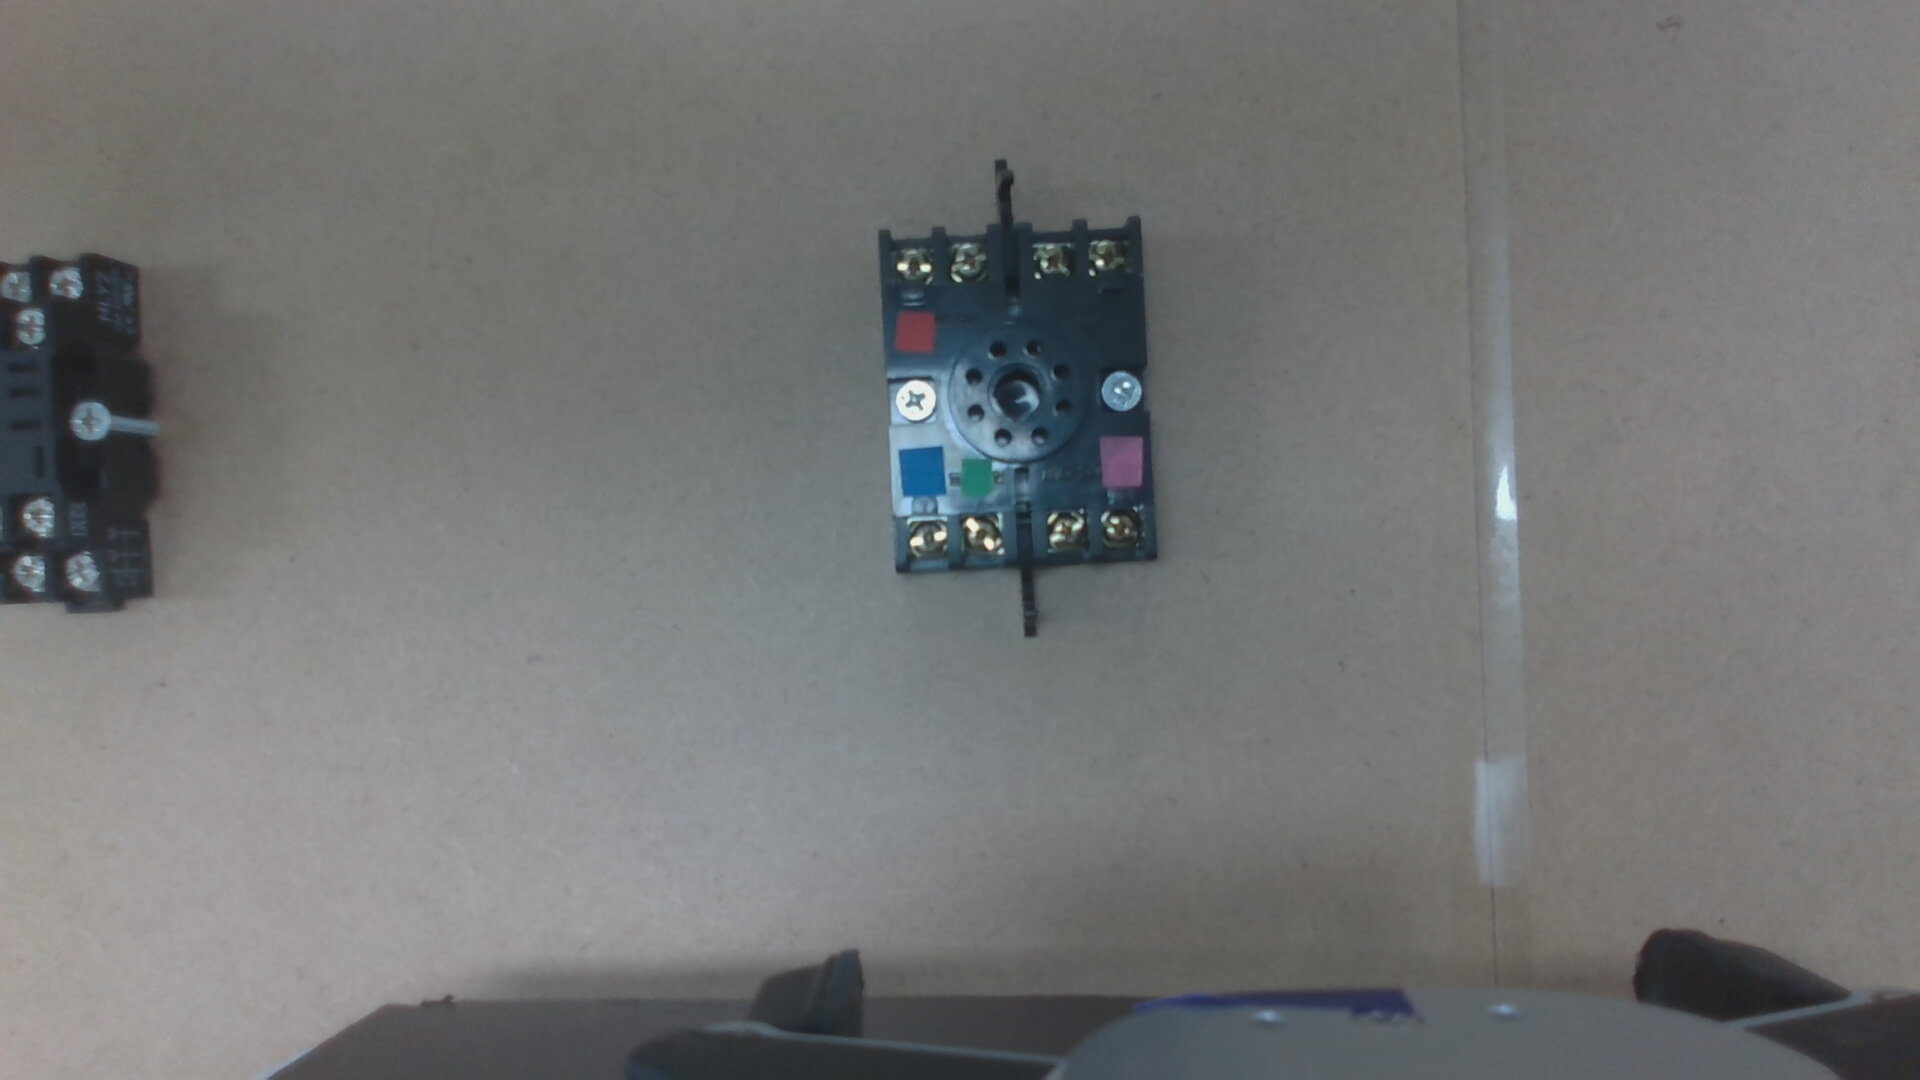timer 2: (1102, 506, 1143, 549)
timer 6: (891, 248, 931, 281)
timer 7: (905, 518, 948, 560)
timer 8: (961, 514, 1002, 556)
